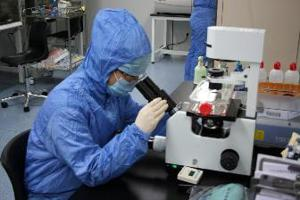person: (26, 8, 171, 200)
